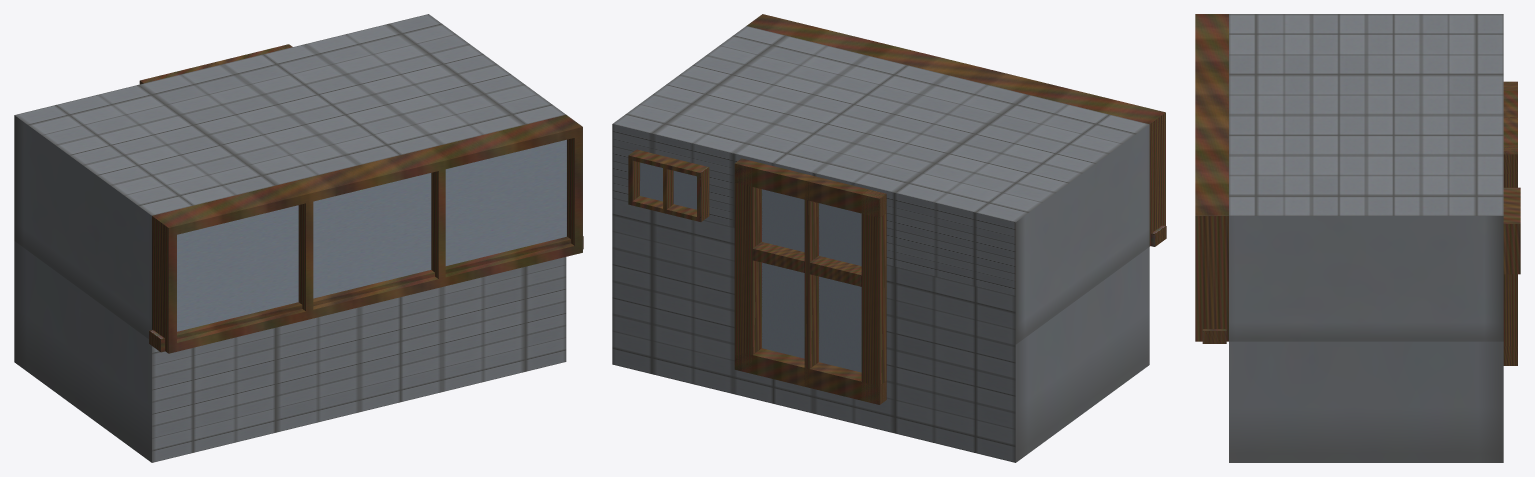
File: balcony.obj
3 views of the same model, side by side, from view 1: azimuth 30°, elevation 25°; view 2: azimuth 150°, elevation 25°; view 3: azimuth 270°, elevation 25° (orthographic). The views are drawn at different scales.
Bounding box in the file's own units: 2.04 × 1.14 × 1.36.
